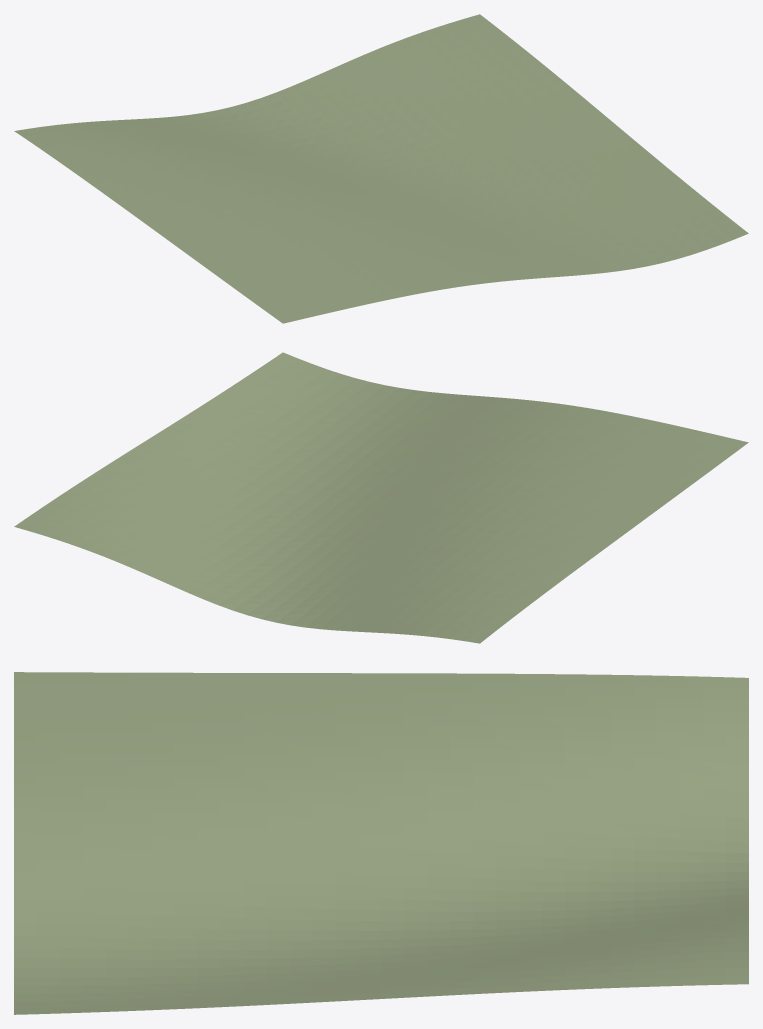
File: desert-13-1.glb
The picture shows the model from 3 angles, top to bottom: view 1: azimuth 30°, elevation 25°; view 2: azimuth 150°, elevation 25°; view 3: azimuth 270°, elevation 25°; orthographic projection. The views are drawn at different scales.
Parts seen in each view (by area): view 1: desert-13-1; view 2: desert-13-1; view 3: desert-13-1.
Boxes of the visible parts, left/top/right/bottom form: desert-13-1: left=14, top=14, right=748, bottom=323; desert-13-1: left=14, top=352, right=748, bottom=643; desert-13-1: left=14, top=672, right=748, bottom=1014.
Bounding box in the file's own units: 512 × 34.84 × 512.
